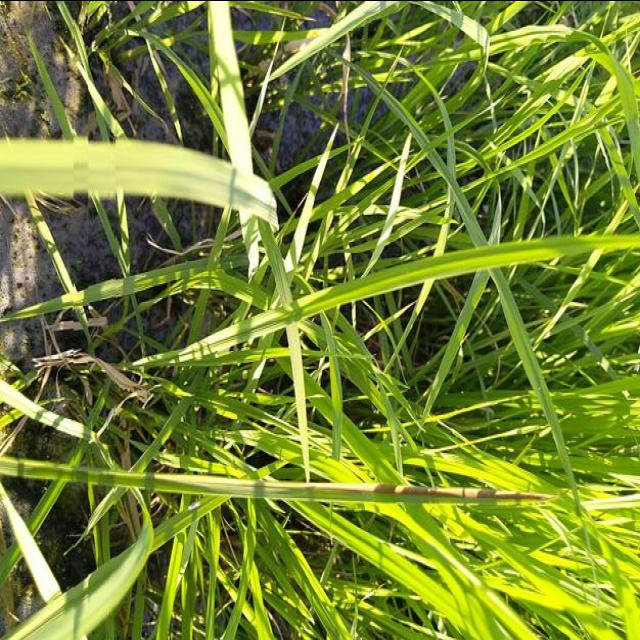Leaf Streak: (257, 481, 551, 500)
